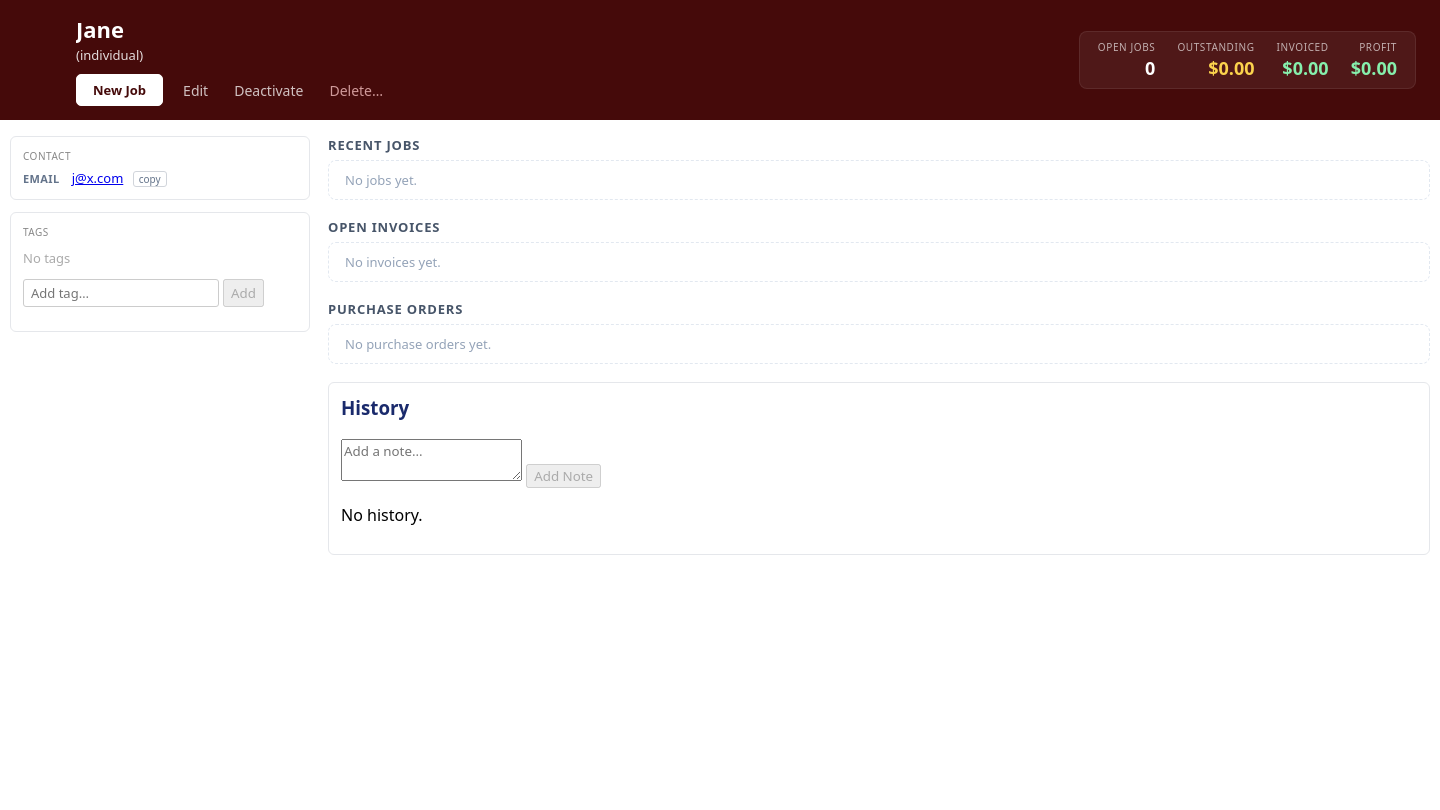
it: ContactDetailPage status actions › active contact: Deactivate posts and reloads; a blocker renders under the actions
Click the button "Deactivate" at (269, 90), box [228,80,310,100]
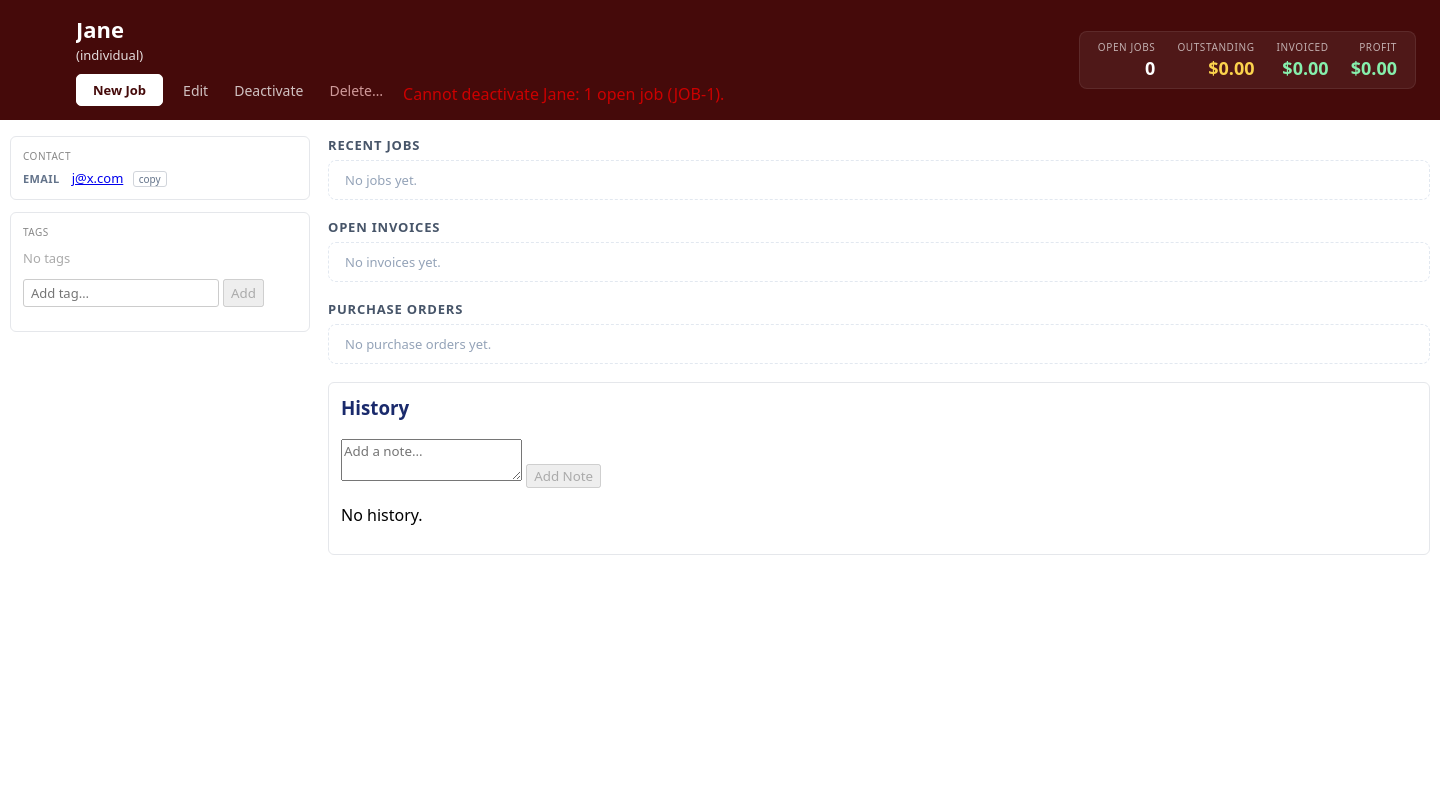
Expected: the text "Cannot deactivate Jane: 1 open job (JOB-1)." is shown, [403,83,724,105]
